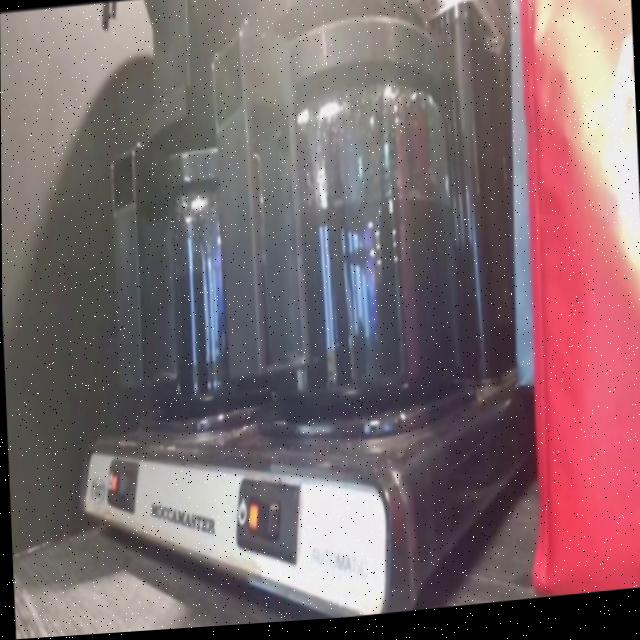coffee: (221, 0, 476, 444), (100, 111, 272, 440)
